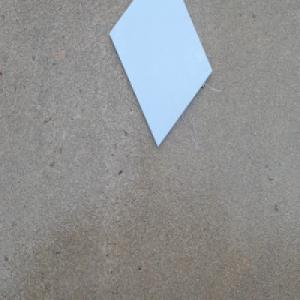PaintChip: (108, 0, 212, 148)
